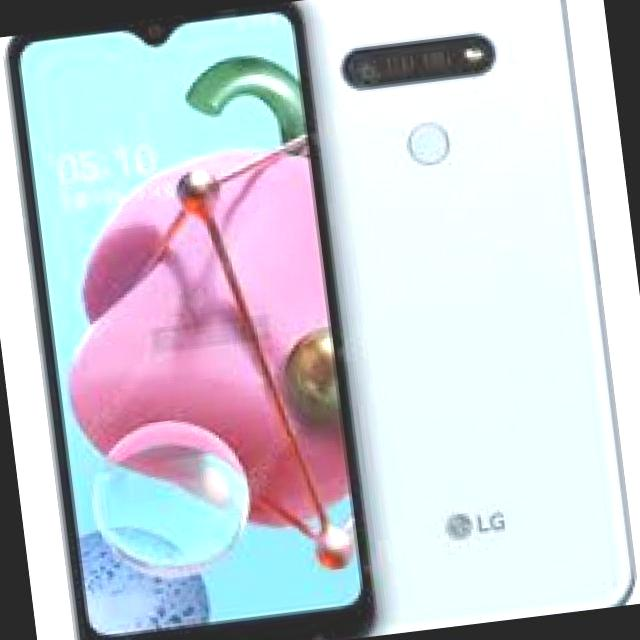lens: (343, 28, 504, 93)
phone: (5, 4, 379, 640), (321, 0, 639, 633)
